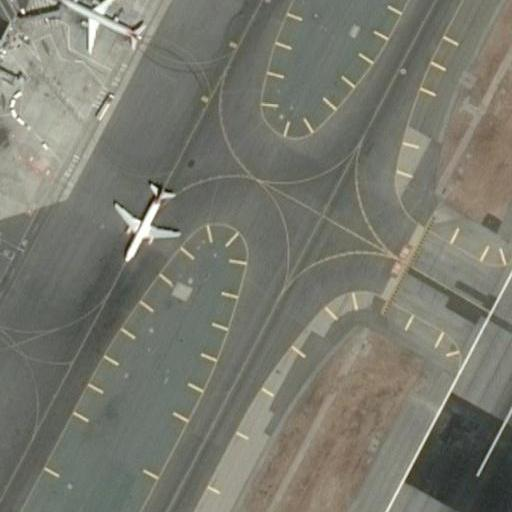Aircraft: (106, 176, 181, 265), (56, 0, 147, 54)
